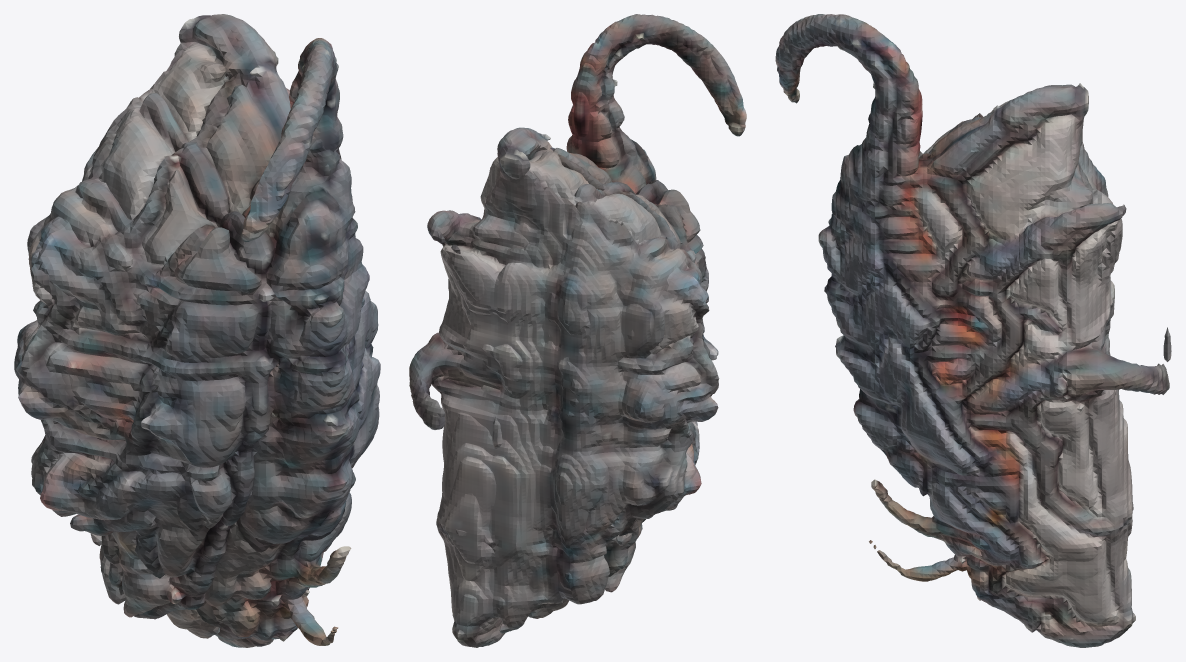
File: rift_runner.glb
3 renders of one model, left to right at view 1: azimuth 30°, elevation 25°; view 2: azimuth 150°, elevation 25°; view 3: azimuth 270°, elevation 25°, orthographic. The views are drawn at different scales.
Visible parts, largest first — view 1: geometry_0; view 2: geometry_0; view 3: geometry_0.
Part boxes in pixels (x1=…): geometry_0: x1=14, y1=14, x2=380, y2=647; geometry_0: x1=409, y1=14, x2=746, y2=647; geometry_0: x1=775, y1=14, x2=1171, y2=647.
Bounding box in the file's own units: 0.5277 × 1.05 × 0.6191.
